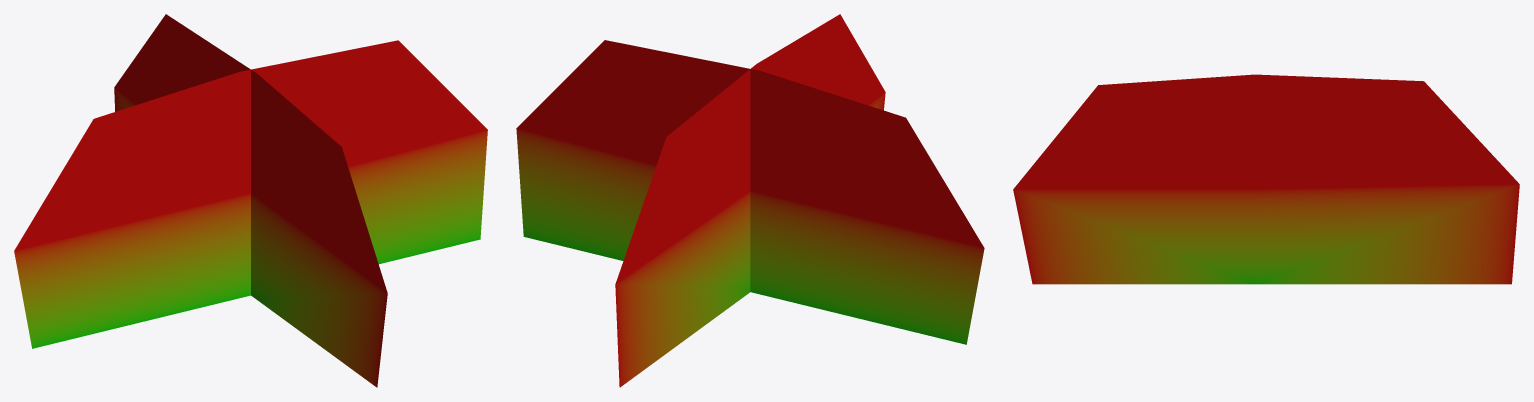
File: Kikuyu Grass_LOD6_Var5_wiljearqx.fbx
3 views of the same model, side by side, from view 1: azimuth 30°, elevation 25°; view 2: azimuth 150°, elevation 25°; view 3: azimuth 270°, elevation 25° (orthographic). The views are drawn at different scales.
Visible parts, largest first — view 1: _80wy_Var5_LOD6; view 2: _80wy_Var5_LOD6; view 3: _80wy_Var5_LOD6.
Boxes of the visible parts, x1,y1,x2,y2 form: _80wy_Var5_LOD6: (14, 14, 487, 387); _80wy_Var5_LOD6: (516, 14, 984, 387); _80wy_Var5_LOD6: (1013, 74, 1519, 284).
Bounding box in the file's own units: 75.62 × 34.53 × 75.62.
